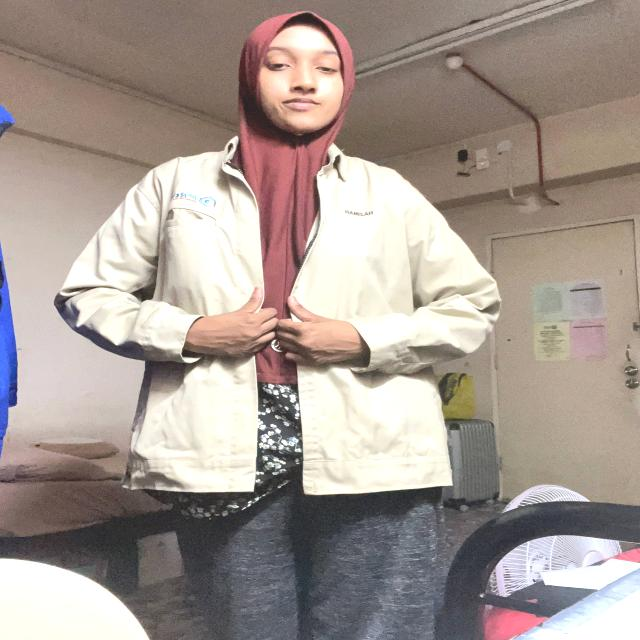person_with_labcoat: (54, 11, 500, 640)
